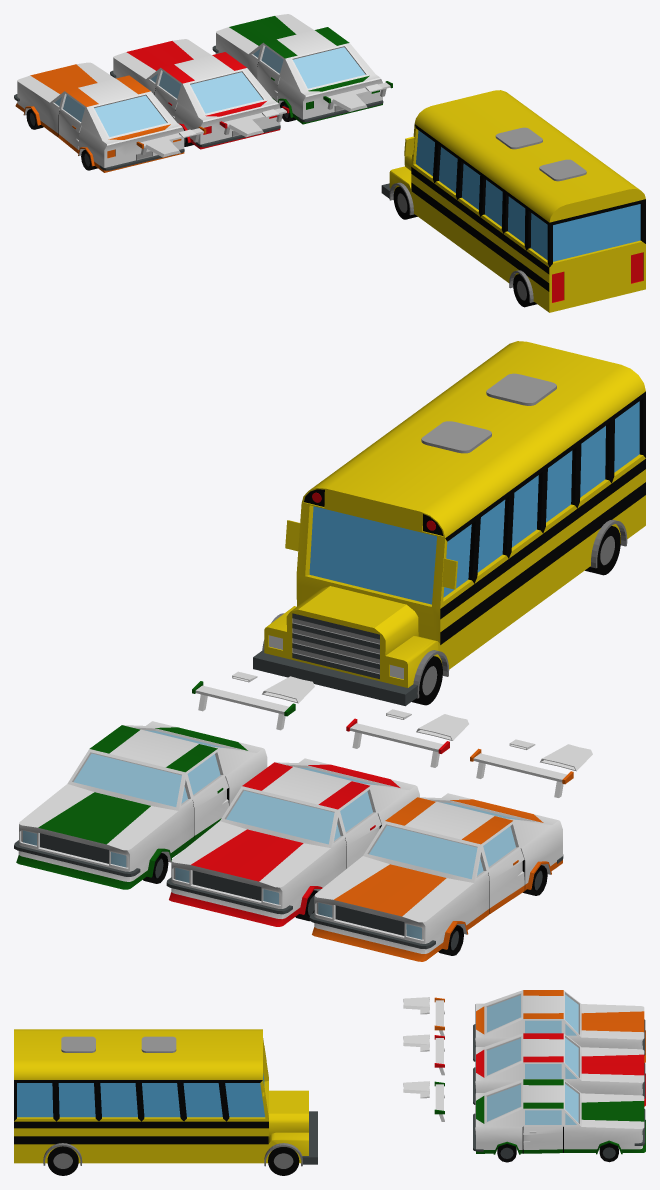
Rendered from veicles.fbx.
3 renders of one model, top to bottom at view 1: azimuth 30°, elevation 25°; view 2: azimuth 150°, elevation 25°; view 3: azimuth 270°, elevation 25°, orthographic. The views are drawn at different scales.
Visible parts, largest first — view 1: Bus, Carro Base_2, Carro Base_1.001, Carro Base_1; view 2: Bus, Carro Base_2, Carro Base_1.001, Carro Base_1, Aerofolio.003, Aerofolio, Aerofolio.002, Saida_Frente.002, Saida_Frente.001, Saida_Frente; view 3: Bus, Carro Base_1.001, Carro Base_1, Carro Base_2, Aerofolio.002, Aerofolio, Aerofolio.003, Saida_Frente.001, Saida_Frente.002, Saida_Frente.
Boxes of the visible parts, bbox=[...] form: Bus: bbox=[381, 90, 645, 312]; Carro Base_2: bbox=[14, 62, 184, 172]; Carro Base_1.001: bbox=[212, 14, 383, 124]; Carro Base_1: bbox=[110, 39, 280, 149]; Bus: bbox=[253, 341, 645, 706]; Carro Base_2: bbox=[309, 793, 563, 961]; Carro Base_1.001: bbox=[14, 721, 267, 889]; Carro Base_1: bbox=[166, 758, 419, 926]; Aerofolio.003: bbox=[470, 748, 573, 797]; Aerofolio: bbox=[346, 718, 449, 767]; Aerofolio.002: bbox=[192, 681, 295, 730]; Saida_Frente.002: bbox=[262, 676, 314, 703]; Saida_Frente.001: bbox=[540, 744, 592, 771]; Saida_Frente: bbox=[416, 714, 468, 740]; Bus: bbox=[14, 1029, 317, 1175]; Carro Base_1.001: bbox=[473, 1079, 645, 1162]; Carro Base_1: bbox=[473, 1033, 645, 1106]; Carro Base_2: bbox=[473, 990, 645, 1062]; Aerofolio.002: bbox=[434, 1081, 444, 1121]; Aerofolio: bbox=[434, 1035, 444, 1075]; Aerofolio.003: bbox=[434, 997, 444, 1036]; Saida_Frente.001: bbox=[403, 997, 429, 1009]; Saida_Frente.002: bbox=[403, 1081, 429, 1093]; Saida_Frente: bbox=[403, 1034, 429, 1047].
Bounding box in the file's own units: 220 × 82.43 × 433.
